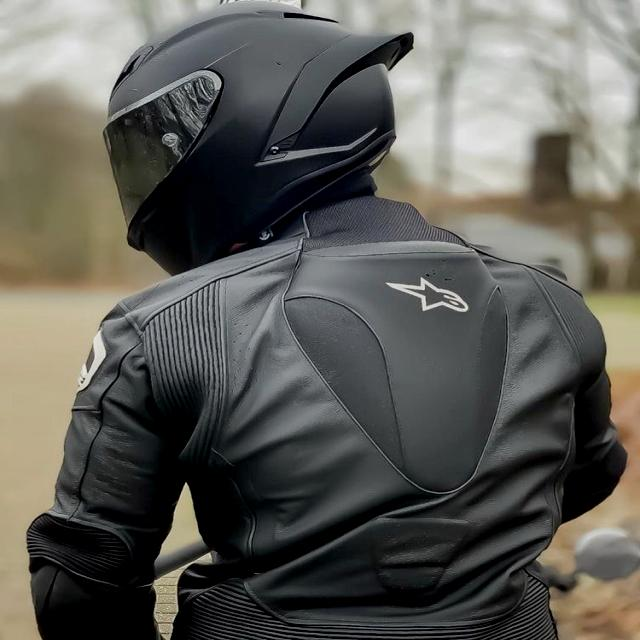helmet: (105, 1, 412, 275)
